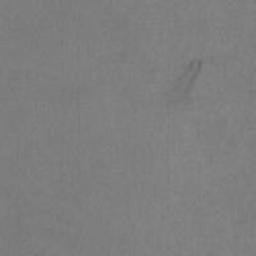Water spot: (171, 60, 202, 99)
